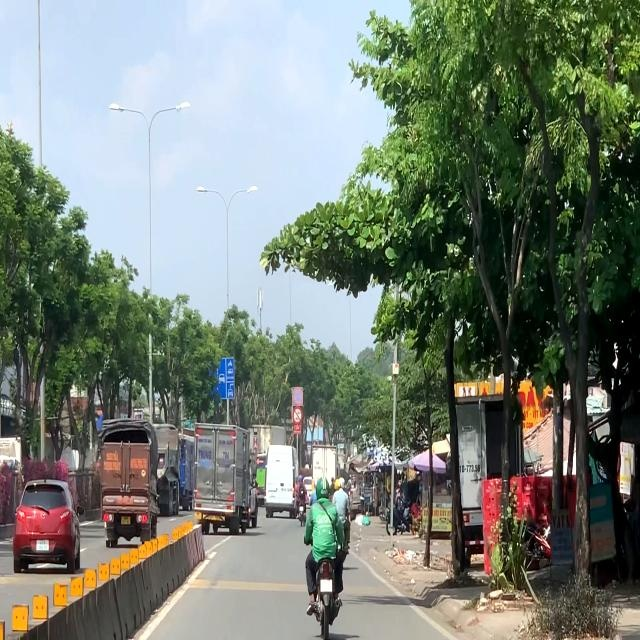bien_cam: (292, 387, 303, 406)
